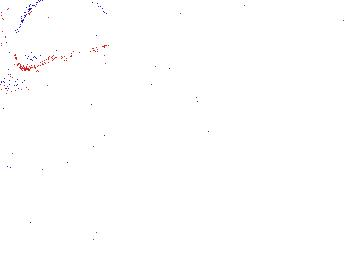moon jellyfish: (13, 1, 116, 71), (83, 49, 177, 106), (104, 1, 201, 53)
